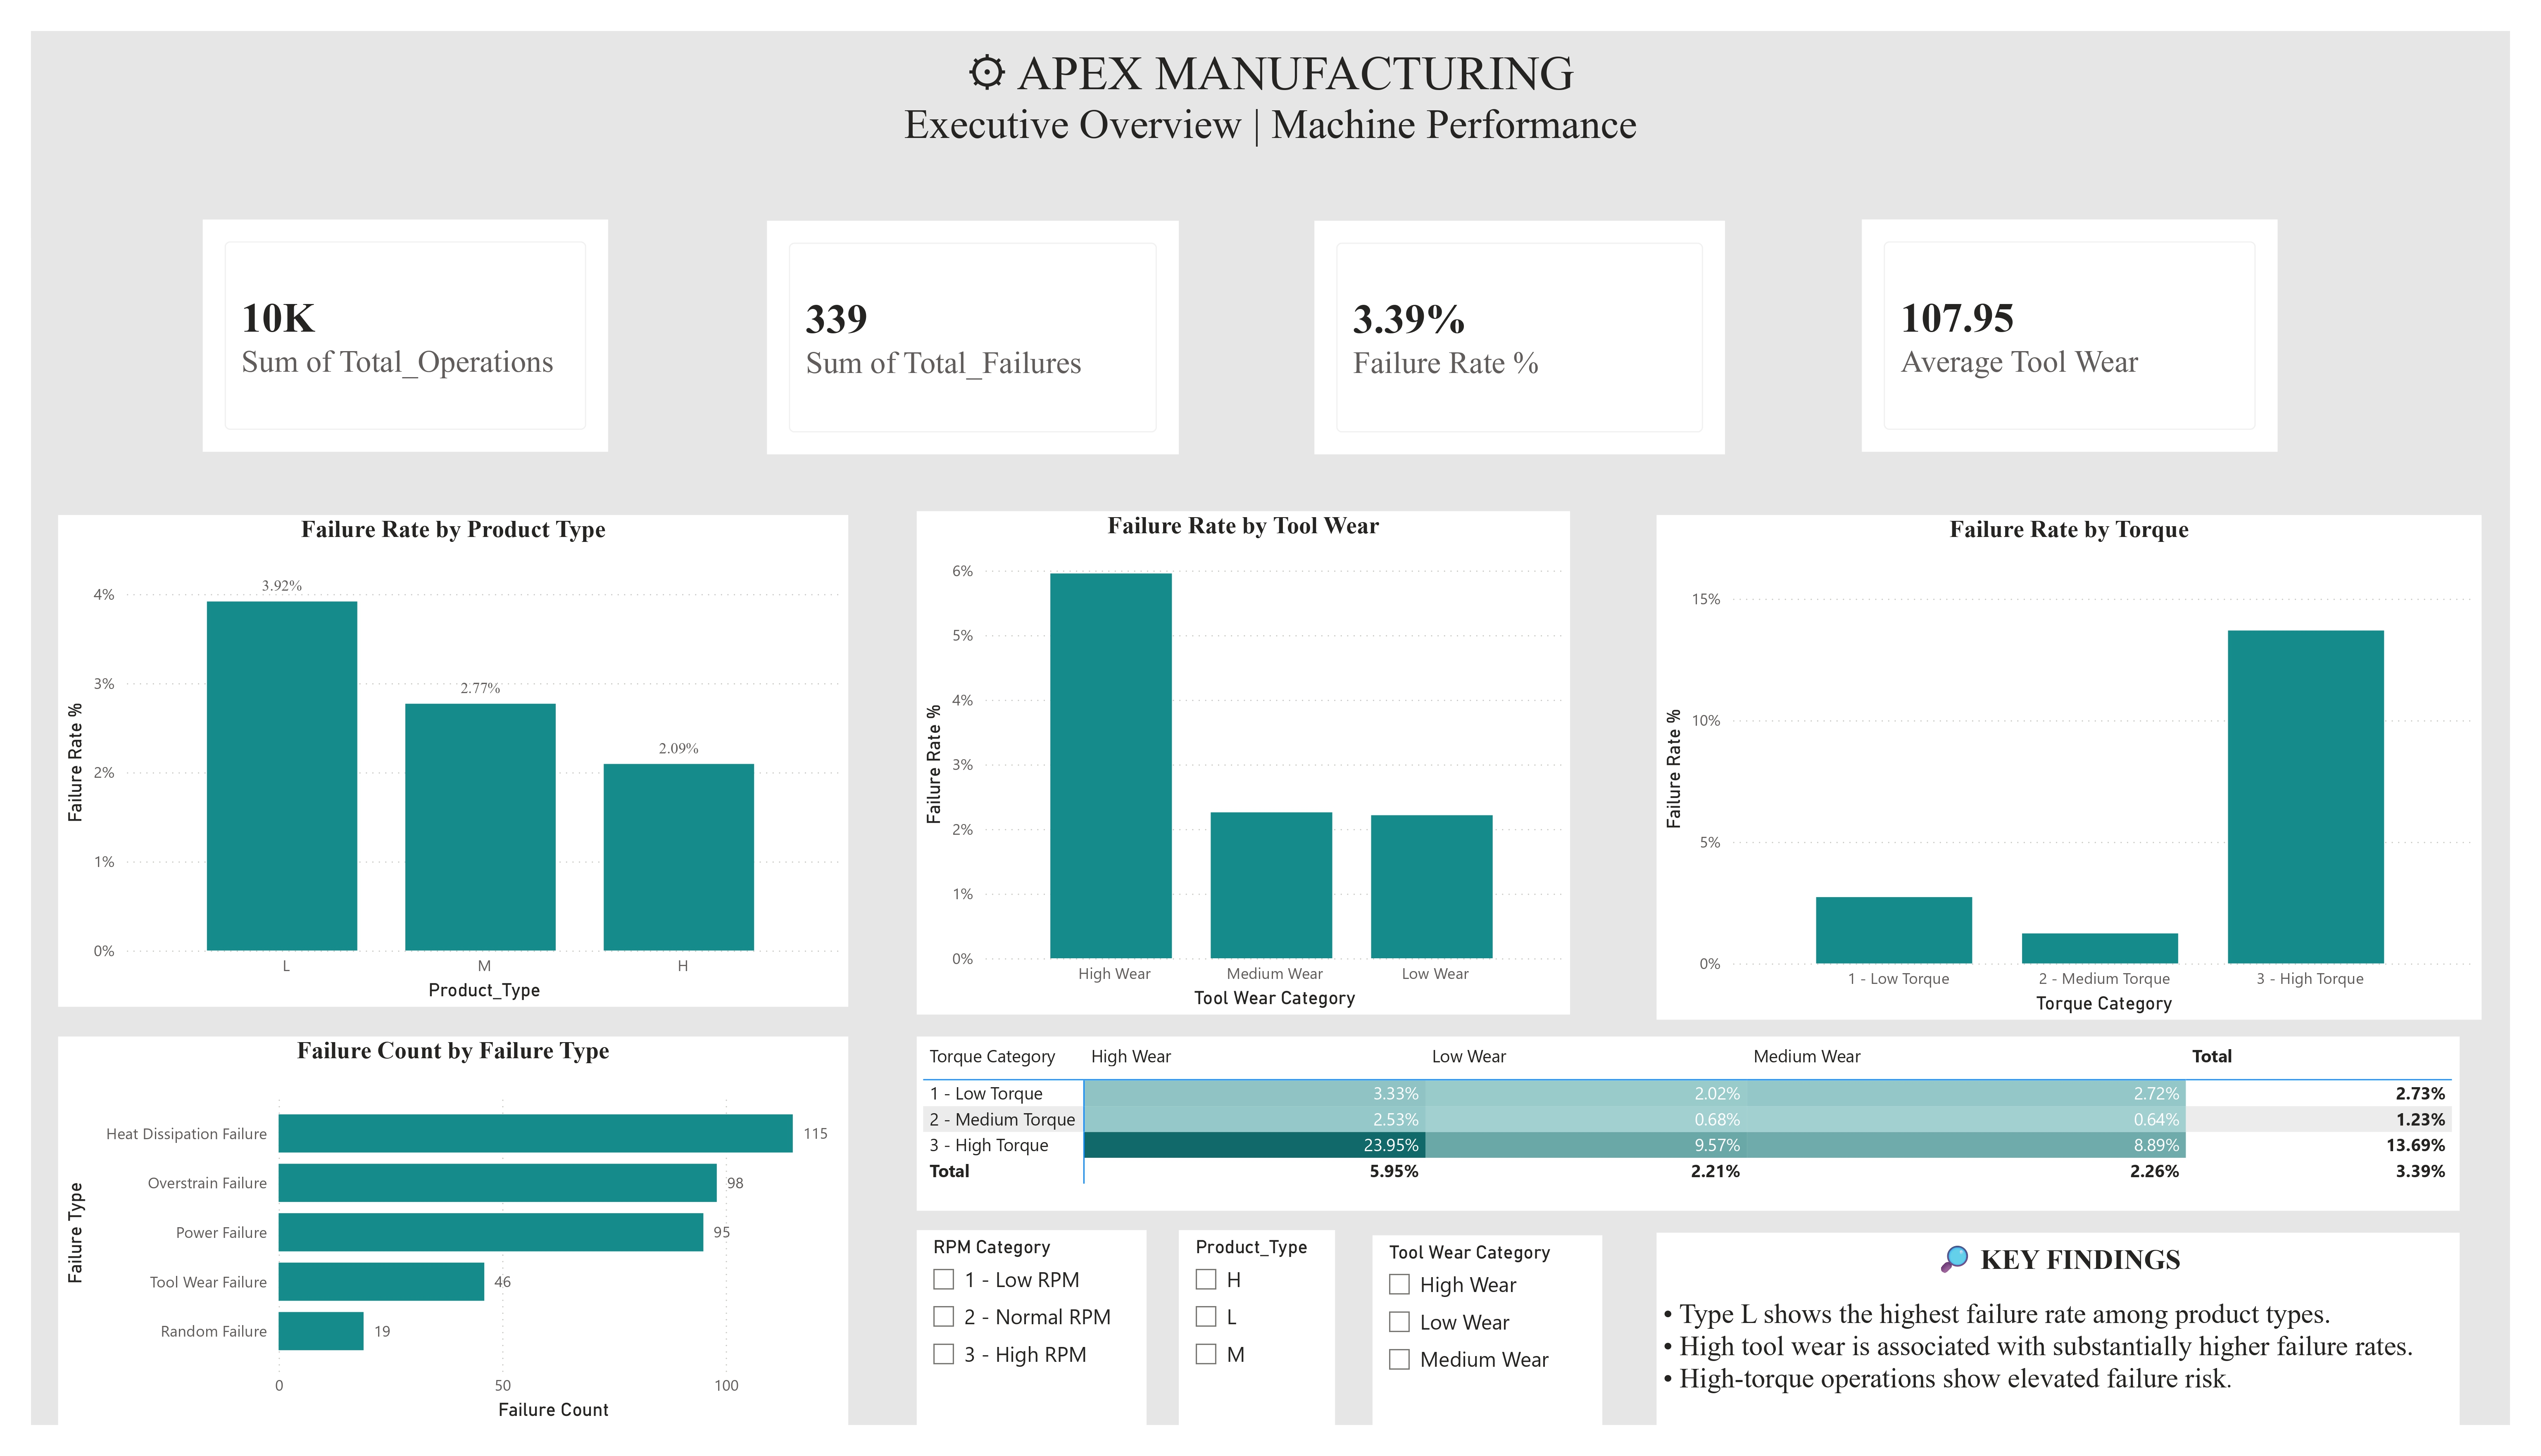

What the dashboard file says about the page in this screenshot:
{"tool":"powerbi","page":{"name":"Executive Overview","canvas":[1920,1080],"ordinal":0},"visuals":[{"type":"cardVisual","fields":{"Data":["Sum(analytics vw_manufacturing_kpis.Total_Operations)"]},"box":[132.7,146,314.7,180.1],"z":0},{"type":"cardVisual","fields":{"Data":["Sum(analytics vw_manufacturing_kpis.Total_Failures)"]},"box":[570,146.6,318.5,181],"z":1000},{"type":"clusteredColumnChart","title":"Failure Rate by Product Type","fields":{"Category":["warehouse fact_machine_operations.Product_Type"],"Y":["warehouse fact_machine_operations.Failure Rate %"]},"box":[20.9,375.4,612.3,381],"z":2000},{"type":"cardVisual","fields":{"Data":["warehouse fact_machine_operations.Failure Rate %"]},"box":[993.5,146.6,318.5,181],"z":3000},{"type":"clusteredColumnChart","title":"Failure Rate by Tool Wear","fields":{"Category":["warehouse fact_machine_operations.Tool Wear Category"],"Y":["warehouse fact_machine_operations.Failure Rate %"]},"box":[686.3,371.6,506.2,390.5],"z":4000},{"type":"clusteredBarChart","fields":{"Category":["Failure Types.Failure Type"],"Y":["Failure Types.Failure Count"]},"box":[20.9,779.1,612.3,301.4],"z":5000},{"type":"clusteredColumnChart","title":"Failure Rate by Torque","fields":{"Y":["warehouse fact_machine_operations.Failure Rate %"],"Category":["warehouse fact_machine_operations.Torque Category"]},"box":[1258.8,375.4,638.9,390.5],"z":6000},{"type":"slicer","fields":{"Values":["warehouse fact_machine_operations.Product_Type"]},"box":[889.1,928.9,121.3,151.7],"z":7000},{"type":"slicer","fields":{"Values":["warehouse fact_machine_operations.RPM Category"]},"box":[686.3,928.9,178.2,151.7],"z":8000},{"type":"slicer","fields":{"Values":["warehouse fact_machine_operations.Tool Wear Category"]},"box":[1038.9,932.7,178.2,147.9],"z":9000},{"type":"textbox","box":[0,0,1920.4,146],"z":10000},{"type":"cardVisual","fields":{"Data":["warehouse fact_machine_operations.Average Tool Wear"]},"box":[1418,146,322.3,180.1],"z":11000},{"type":"pivotTable","fields":{"Rows":["warehouse fact_machine_operations.Torque Category"],"Columns":["warehouse fact_machine_operations.Tool Wear Category"],"Values":["warehouse fact_machine_operations.Failure Rate %"]},"box":[686.3,779.1,1194.3,134.6],"z":12000},{"type":"textbox","box":[1258.8,930.8,621.8,149.8],"z":13000}]}

Visuals, with their boxes on the page's 1920x1080 design canvas (x1, y1, x2, y2). These are canvas units, not pixel positions in the 2541x1456 screenshot, which may show the page scaled, cropped or inside an application window:
cardVisual - Sum(analytics vw_manufacturing_kpis.Total_Operations): <region>133, 146, 447, 326</region>
cardVisual - Sum(analytics vw_manufacturing_kpis.Total_Failures): <region>570, 147, 888, 328</region>
"Failure Rate by Product Type" clusteredColumnChart: <region>21, 375, 633, 756</region>
cardVisual - warehouse fact_machine_operations.Failure Rate %: <region>994, 147, 1312, 328</region>
"Failure Rate by Tool Wear" clusteredColumnChart: <region>686, 372, 1192, 762</region>
clusteredBarChart - Failure Types.Failure Type x Failure Types.Failure Count: <region>21, 779, 633, 1080</region>
"Failure Rate by Torque" clusteredColumnChart: <region>1259, 375, 1898, 766</region>
slicer - warehouse fact_machine_operations.Product_Type: <region>889, 929, 1010, 1081</region>
slicer - warehouse fact_machine_operations.RPM Category: <region>686, 929, 864, 1081</region>
slicer - warehouse fact_machine_operations.Tool Wear Category: <region>1039, 933, 1217, 1081</region>
textbox: <region>0, 0, 1920, 146</region>
cardVisual - warehouse fact_machine_operations.Average Tool Wear: <region>1418, 146, 1740, 326</region>
pivotTable - warehouse fact_machine_operations.Torque Category x warehouse fact_machine_operations.Tool Wear Category: <region>686, 779, 1881, 914</region>
textbox: <region>1259, 931, 1881, 1081</region>
